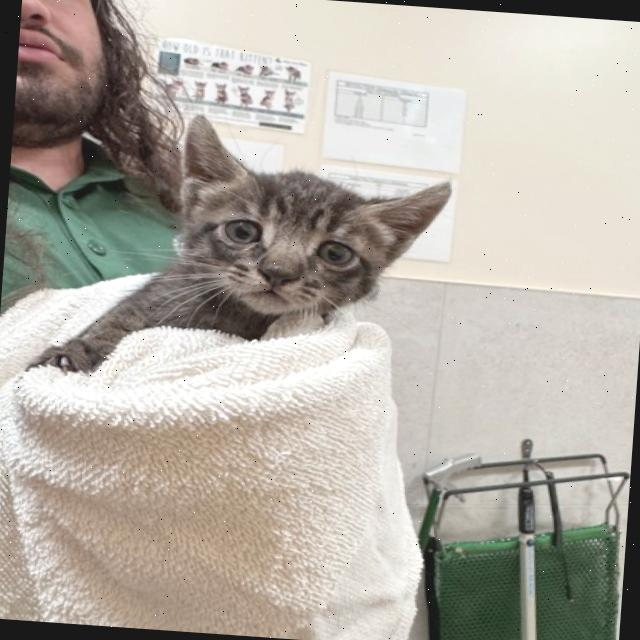domestic_short_hair_cat: (140, 92, 478, 364)
